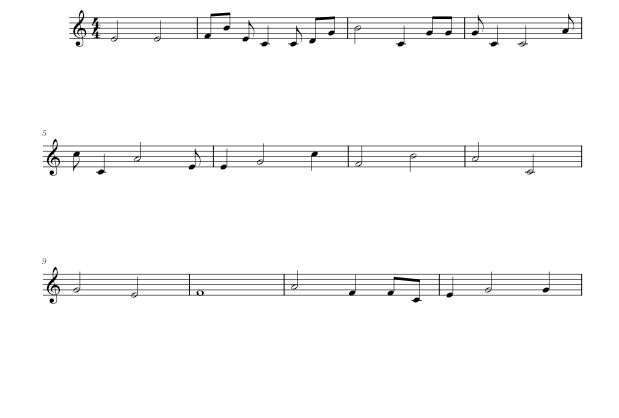Treble Clef: (71, 7, 89, 49), (45, 265, 63, 306), (46, 137, 63, 178)
